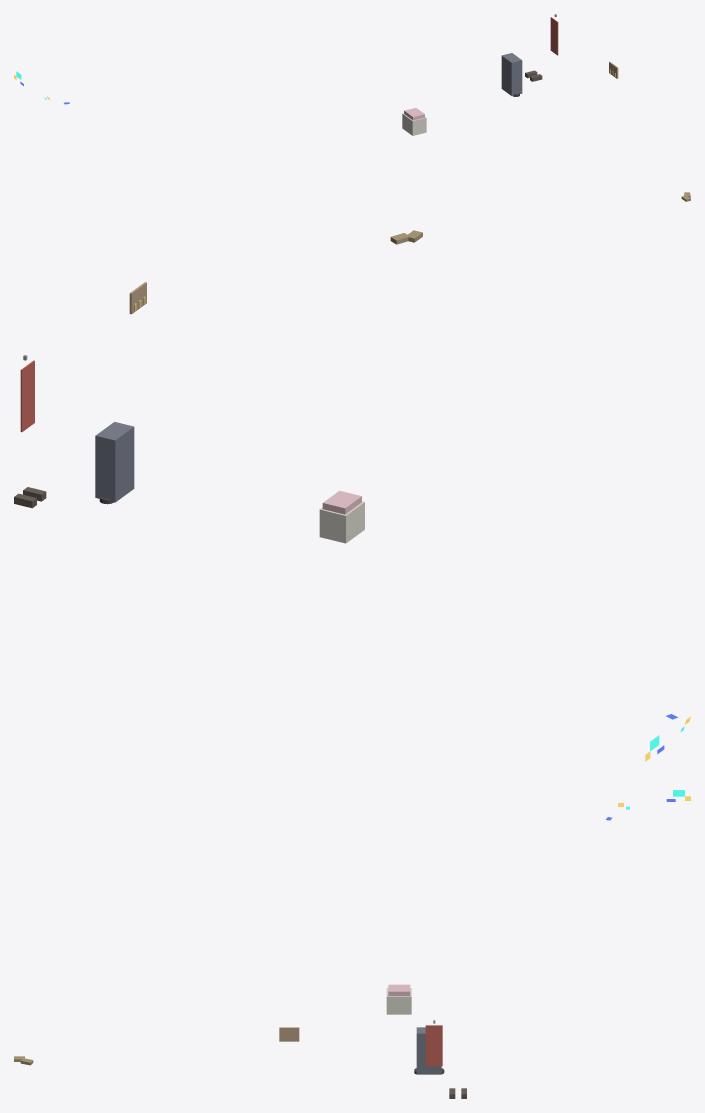
Rendered from interior-props.glb.
The picture shows the model from 3 angles, top to bottom: view 1: azimuth 30°, elevation 25°; view 2: azimuth 150°, elevation 25°; view 3: azimuth 270°, elevation 25°; orthographic projection. The views are drawn at different scales.
Visible parts, largest first — view 1: emp/stroller|MI_stroller, emp/basket|MI_basket, emp/apron|MI_apron; view 2: emp/stroller|MI_stroller, emp/basket|MI_basket, emp/apron|MI_apron; view 3: emp/apron|MI_apron, emp/stroller|MI_stroller, emp/basket|MI_basket.
Part boxes in pixels (bbox=[...]): emp/stroller|MI_stroller: bbox=[501, 53, 522, 95]; emp/basket|MI_basket: bbox=[402, 113, 426, 135]; emp/apron|MI_apron: bbox=[550, 17, 558, 55]; emp/stroller|MI_stroller: bbox=[95, 422, 134, 502]; emp/basket|MI_basket: bbox=[319, 501, 364, 543]; emp/apron|MI_apron: bbox=[20, 360, 34, 432]; emp/apron|MI_apron: bbox=[425, 1025, 442, 1066]; emp/stroller|MI_stroller: bbox=[416, 1027, 441, 1074]; emp/basket|MI_basket: bbox=[386, 988, 411, 1014].
Bounding box in the file's own units: 12.39 × 1.83 × 13.55.
